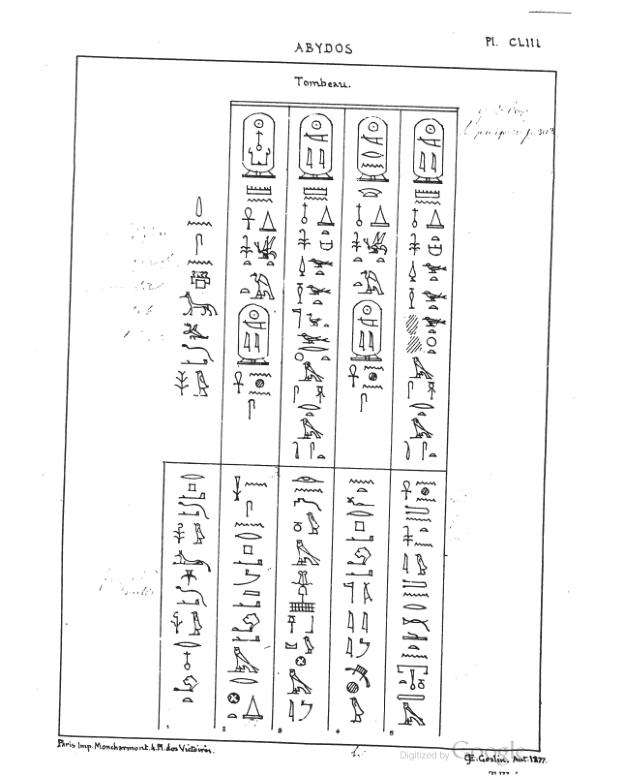circle: (295, 111, 336, 182), (240, 112, 279, 182), (234, 299, 273, 367), (348, 297, 387, 365), (355, 114, 391, 185), (411, 114, 442, 185)
